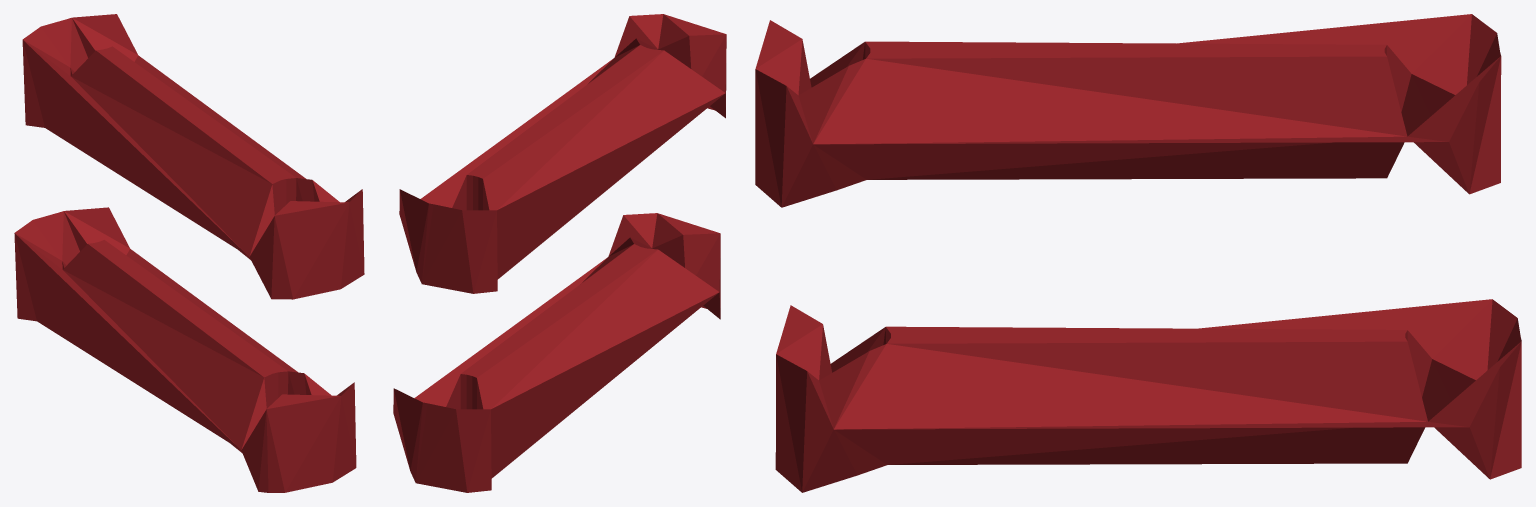
Rendered from lidar_links.obj.
3 views of the same model, side by side, from view 1: azimuth 30°, elevation 25°; view 2: azimuth 150°, elevation 25°; view 3: azimuth 270°, elevation 25° (orthographic). The views are drawn at different scales.
Bounding box in the file's own units: 0.00699 × 0.0167 × 0.0285.
